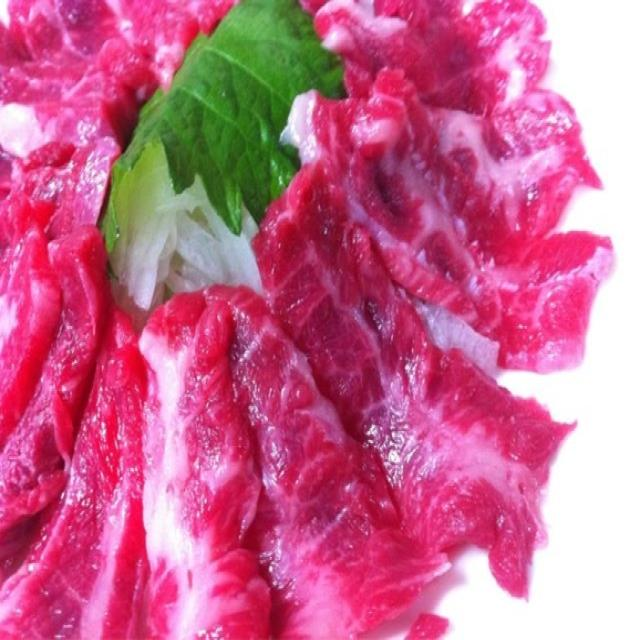刺身生食: (8, 7, 603, 637)
